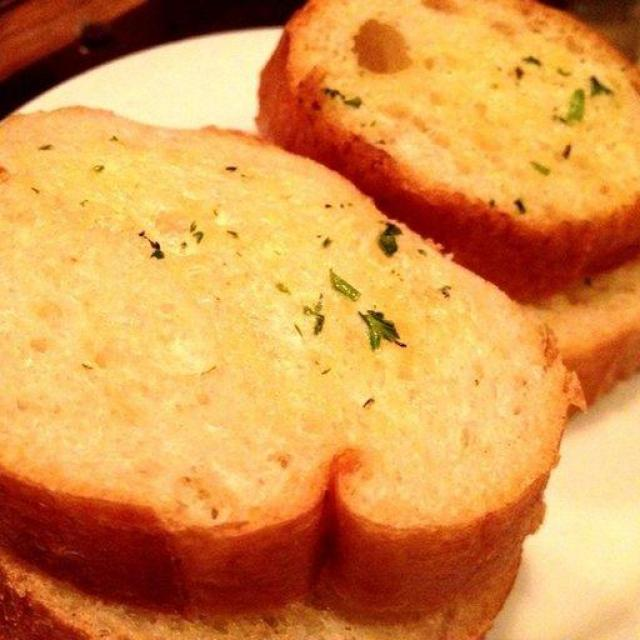food_waste: (1, 89, 603, 588), (245, 1, 640, 271), (466, 265, 640, 407)
